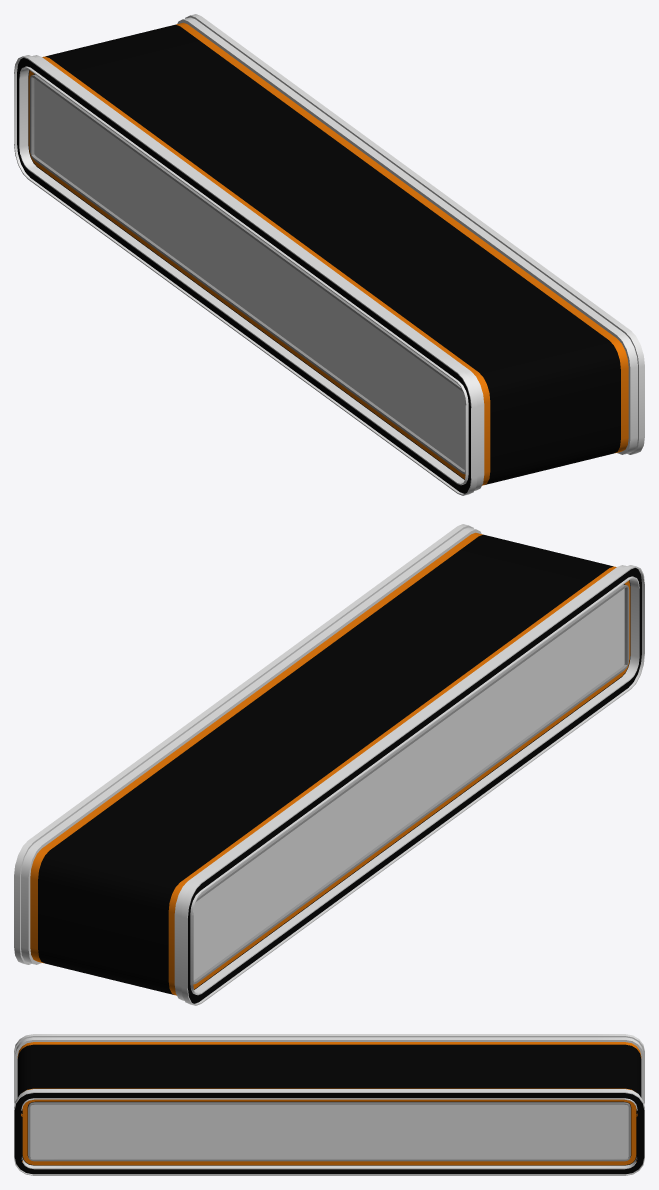
Rendered from ConveyorBeltI_004.fbx.
3 renders of one model, top to bottom at view 1: azimuth 30°, elevation 25°; view 2: azimuth 150°, elevation 25°; view 3: azimuth 270°, elevation 25°, orthographic. The views are drawn at different scales.
Parts seen in each view (by area): view 1: ConveyorBeltI.004; view 2: ConveyorBeltI.004; view 3: ConveyorBeltI.004.
Part boxes in pixels (x1,y1,x2,y2): ConveyorBeltI.004: (14, 14, 644, 495); ConveyorBeltI.004: (14, 524, 644, 1005); ConveyorBeltI.004: (14, 1034, 644, 1175).
Size of the model in its own units: 224 by 149 by 1024.
